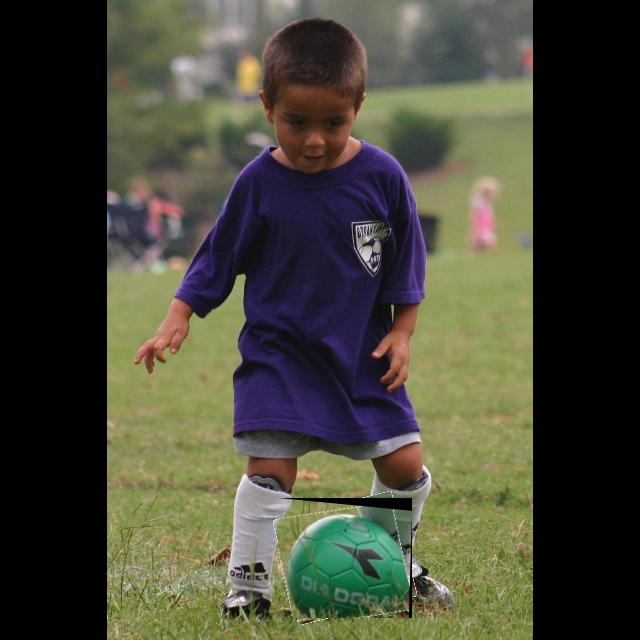Football: (278, 498, 412, 618)
